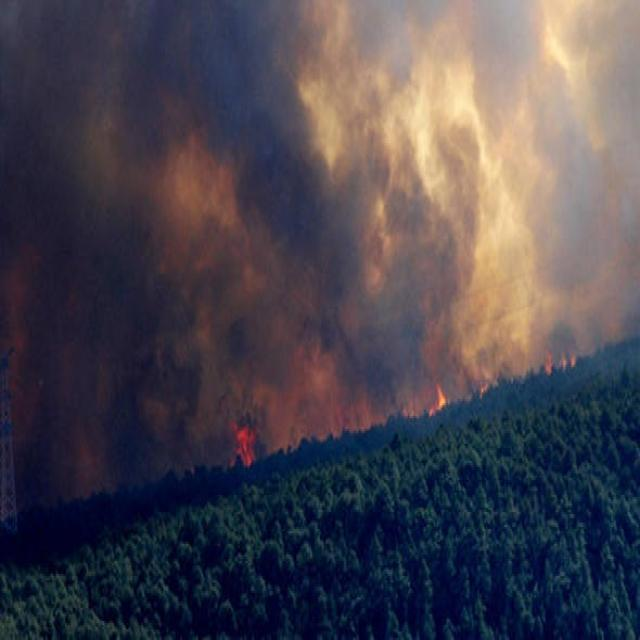Fire: (229, 414, 257, 467), (541, 348, 577, 376), (428, 382, 452, 418)
Smoke: (1, 2, 640, 516)
